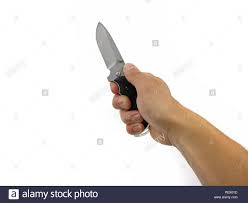knife: (92, 19, 154, 142)
